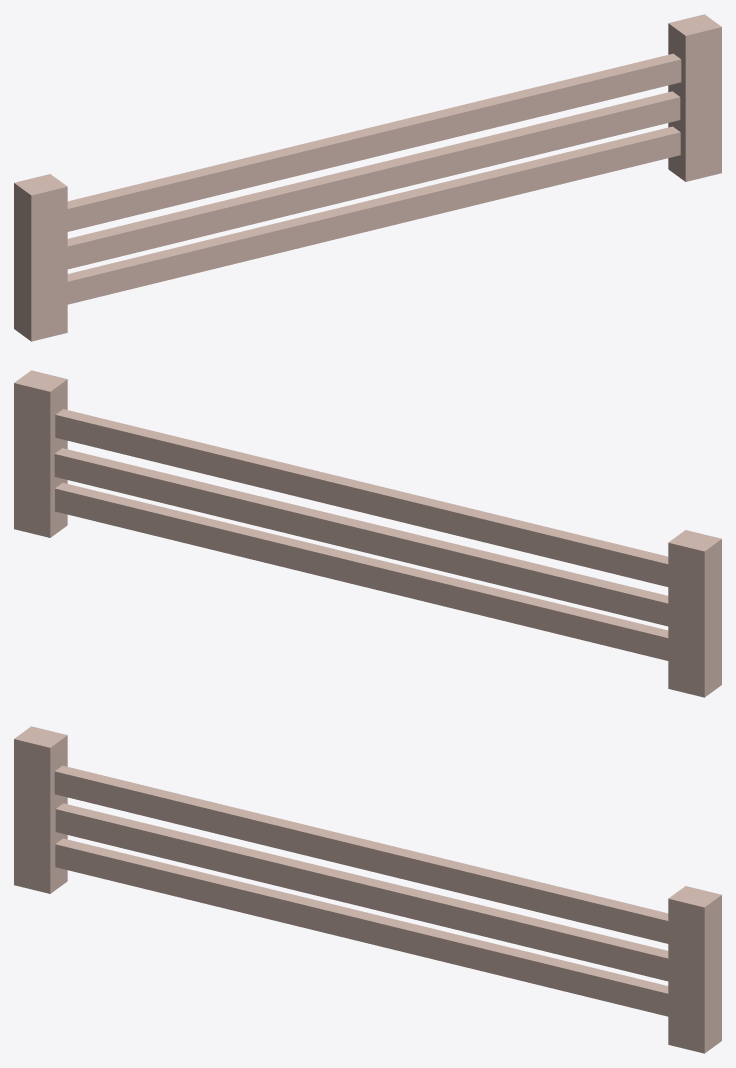
File: WoodenFence2.fbx
3 views of the same model, one above another, from view 1: azimuth 30°, elevation 25°; view 2: azimuth 150°, elevation 25°; view 3: azimuth 330°, elevation 25° (orthographic).
Visible parts, largest first — view 1: WoodenFence2; view 2: WoodenFence2; view 3: WoodenFence2.
Boxes of the visible parts, x1,y1,x2,y2 form: WoodenFence2: (14,14,721,341); WoodenFence2: (14,370,721,697); WoodenFence2: (14,726,721,1053).
Bounding box in the file's own units: 2.52 × 0.11 × 0.51.
